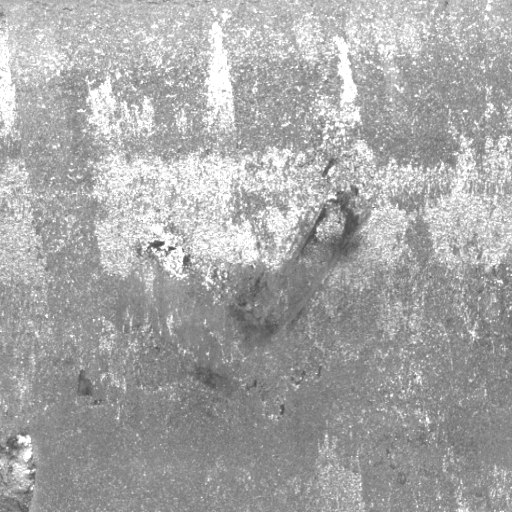aokeng: (1, 431, 34, 512)
